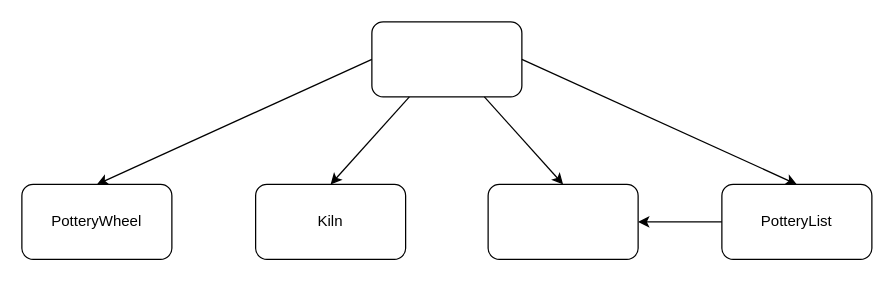
The diagram is 894 pixels wide and 281 high, and some of its shapes have lost their labels. The shapes that lost their labels are listed below. From the top down, each one's box as (x1, y1, x2, y2) in pixels, then its label:
(371, 21, 522, 97): main
(487, 183, 638, 259): PotteryCatalog
